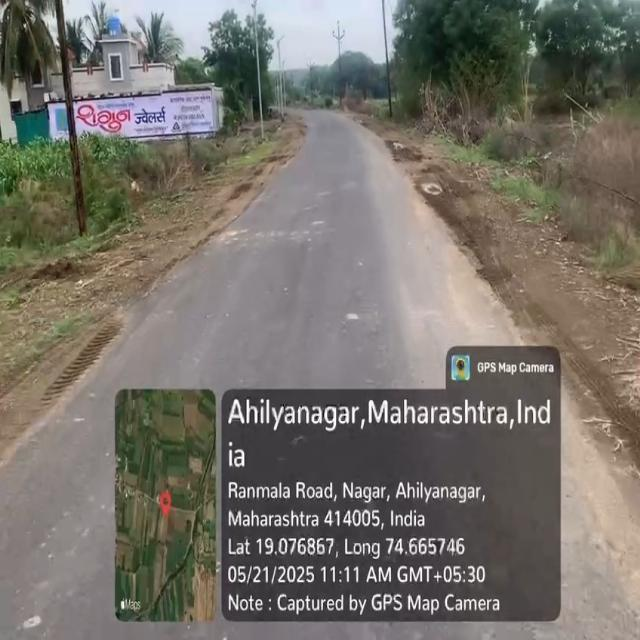pothole: (415, 170, 448, 196)
